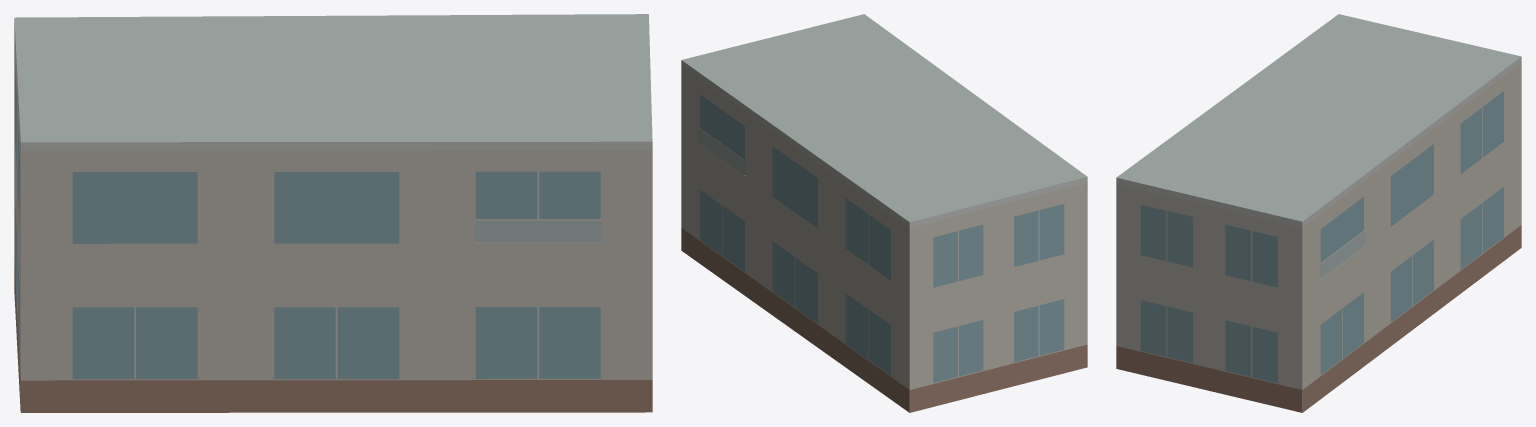
File: survey-upis-32893287.glb
3 views of the same model, side by side, from view 1: azimuth 30°, elevation 25°; view 2: azimuth 150°, elevation 25°; view 3: azimuth 270°, elevation 25° (orthographic). The views are drawn at different scales.
Visible parts, largest first — view 1: survey-upis-32893287.tmp; view 2: survey-upis-32893287.tmp; view 3: survey-upis-32893287.tmp.
Part boxes in pixels (x1,y1,x2,y2): survey-upis-32893287.tmp: [14, 14, 652, 412]; survey-upis-32893287.tmp: [681, 14, 1087, 412]; survey-upis-32893287.tmp: [1116, 14, 1521, 412].
Size of the model in its own units: 17.95 by 7.7 by 14.81.
